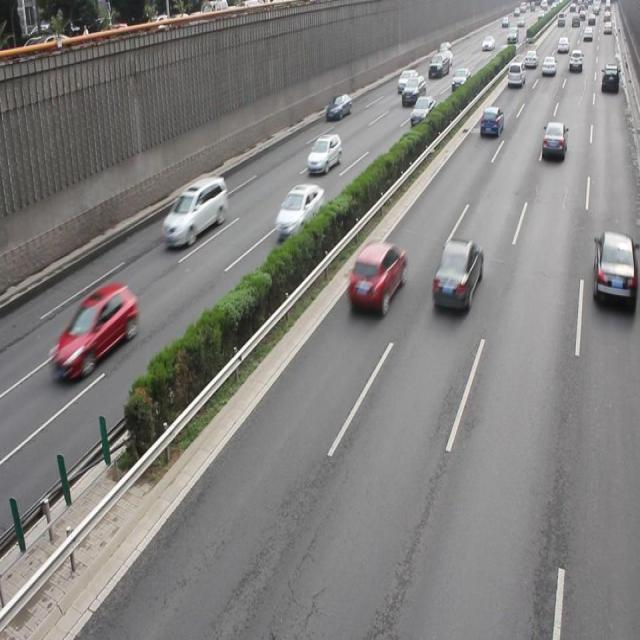car: (51, 281, 138, 379), (160, 174, 227, 248), (346, 240, 404, 316), (429, 238, 482, 314), (592, 230, 640, 308), (273, 183, 323, 240), (307, 133, 341, 174), (540, 120, 566, 160), (408, 96, 434, 128), (479, 106, 502, 138), (324, 92, 350, 120)
